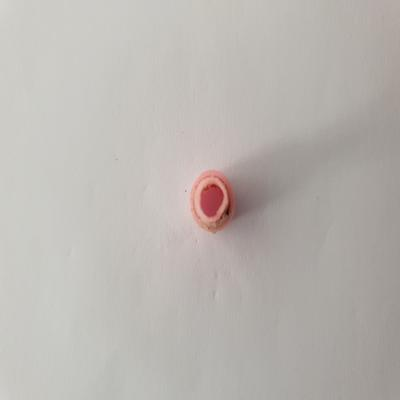plastic: (186, 160, 240, 239)
